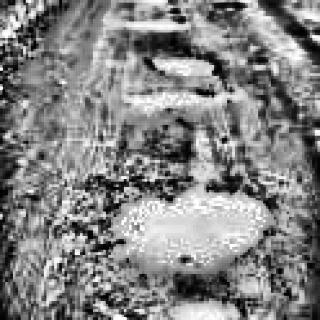pothole: (111, 178, 279, 283), (145, 51, 221, 80), (126, 87, 212, 112), (168, 296, 246, 320)
